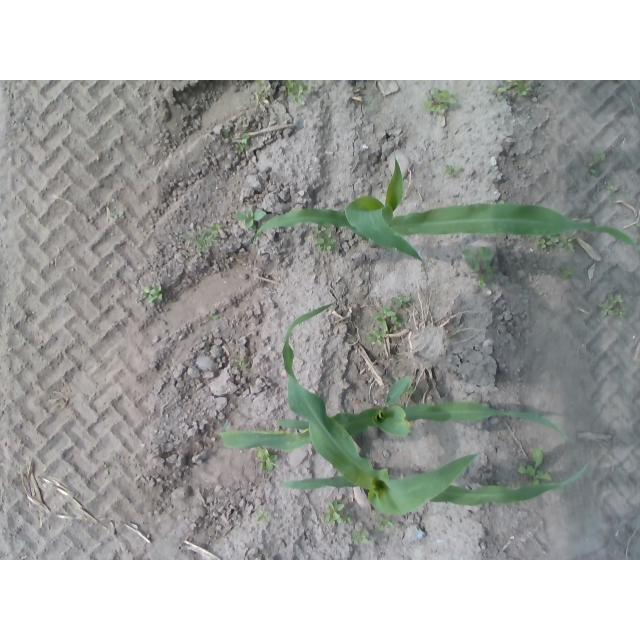Maize: (219, 298, 590, 517), (251, 148, 640, 260)
Weeds: (515, 447, 563, 486), (366, 307, 402, 348), (181, 228, 222, 261), (468, 246, 497, 287), (425, 88, 458, 116), (324, 498, 351, 526), (537, 235, 576, 254), (288, 81, 311, 111), (600, 294, 628, 318), (233, 208, 263, 229), (588, 152, 608, 180), (256, 451, 280, 473), (233, 356, 255, 378), (316, 232, 337, 254), (146, 286, 167, 306), (350, 527, 371, 547), (255, 83, 274, 105), (234, 133, 253, 152), (372, 517, 396, 531), (491, 84, 510, 100), (255, 513, 274, 527), (559, 266, 574, 282), (391, 296, 410, 308), (519, 87, 535, 100), (607, 187, 621, 198)
